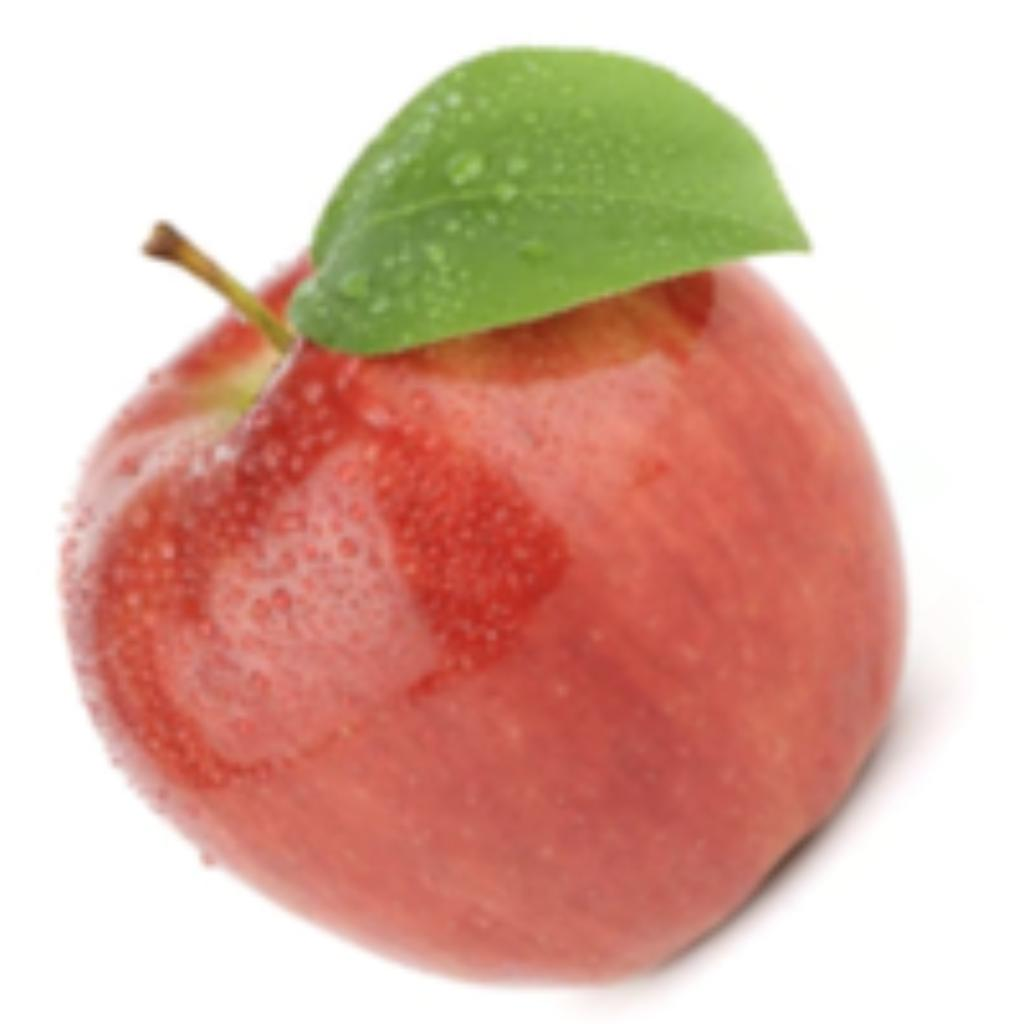apple: (51, 36, 973, 1014)
